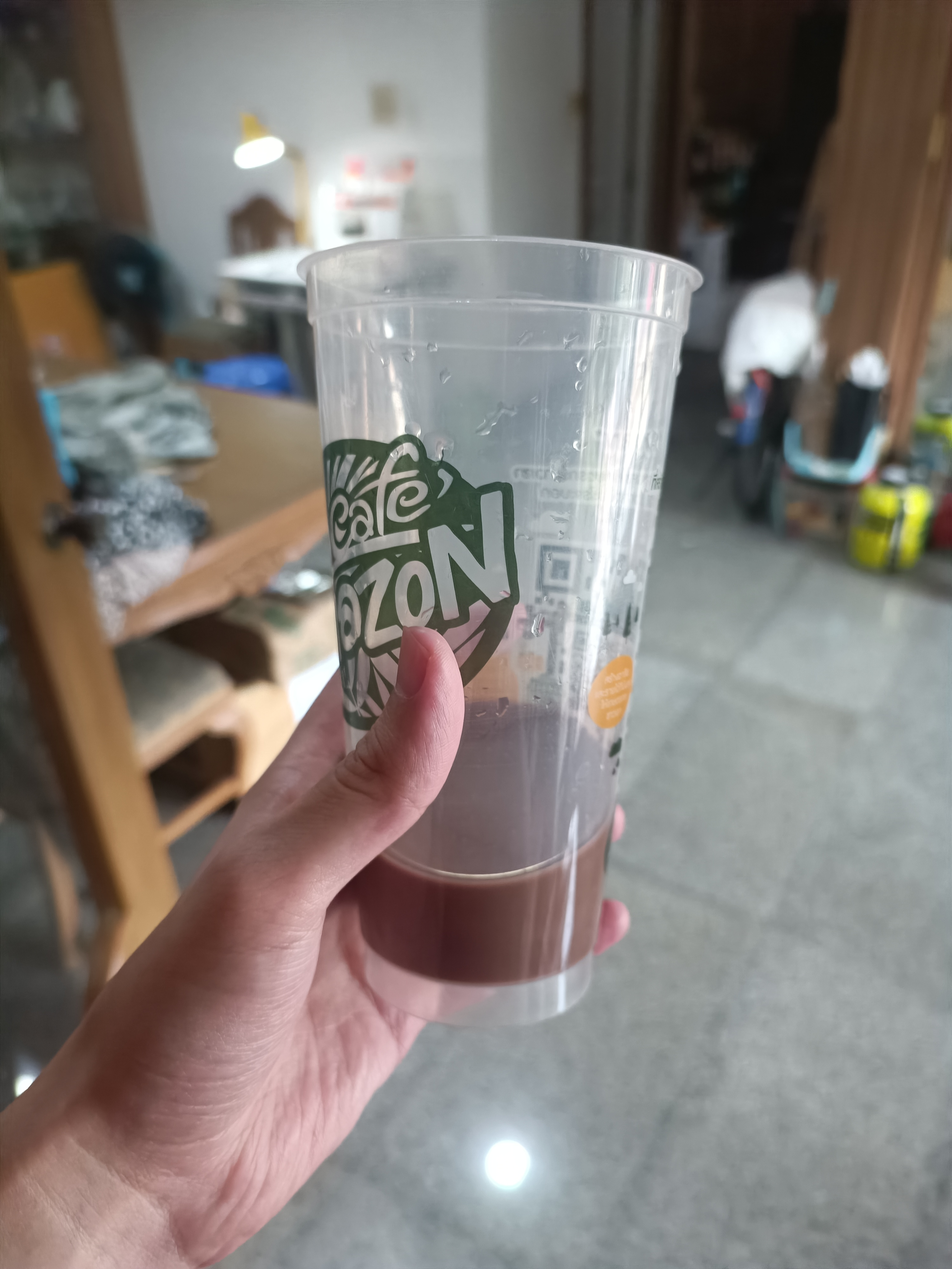plastic: (244, 165, 721, 1048)
